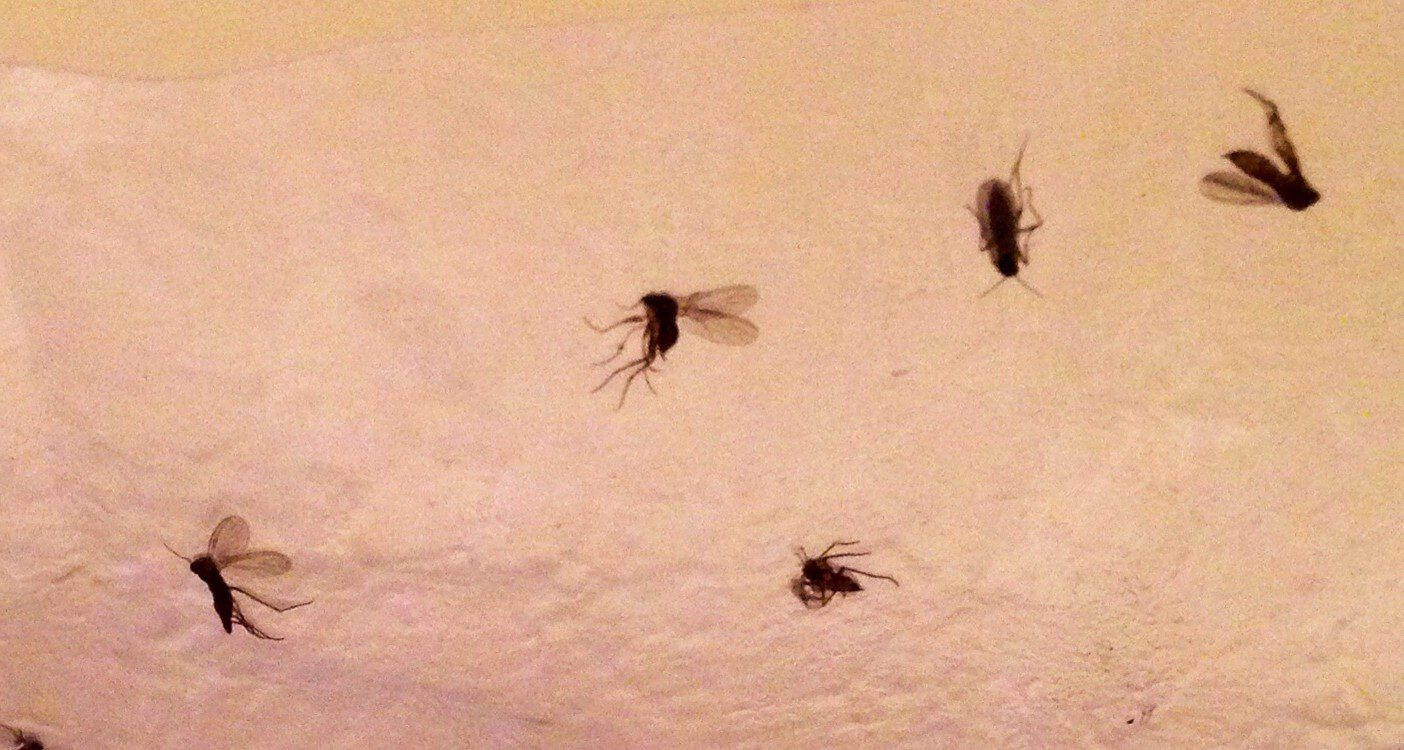phorid fly: (569, 263, 796, 420), (144, 495, 321, 650), (1184, 68, 1330, 231), (947, 133, 1048, 309), (766, 528, 907, 624)
